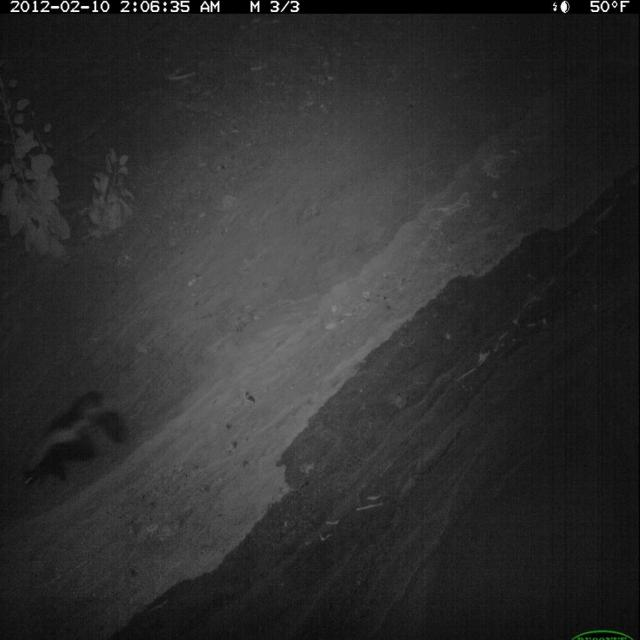skunk: (17, 379, 136, 501)
